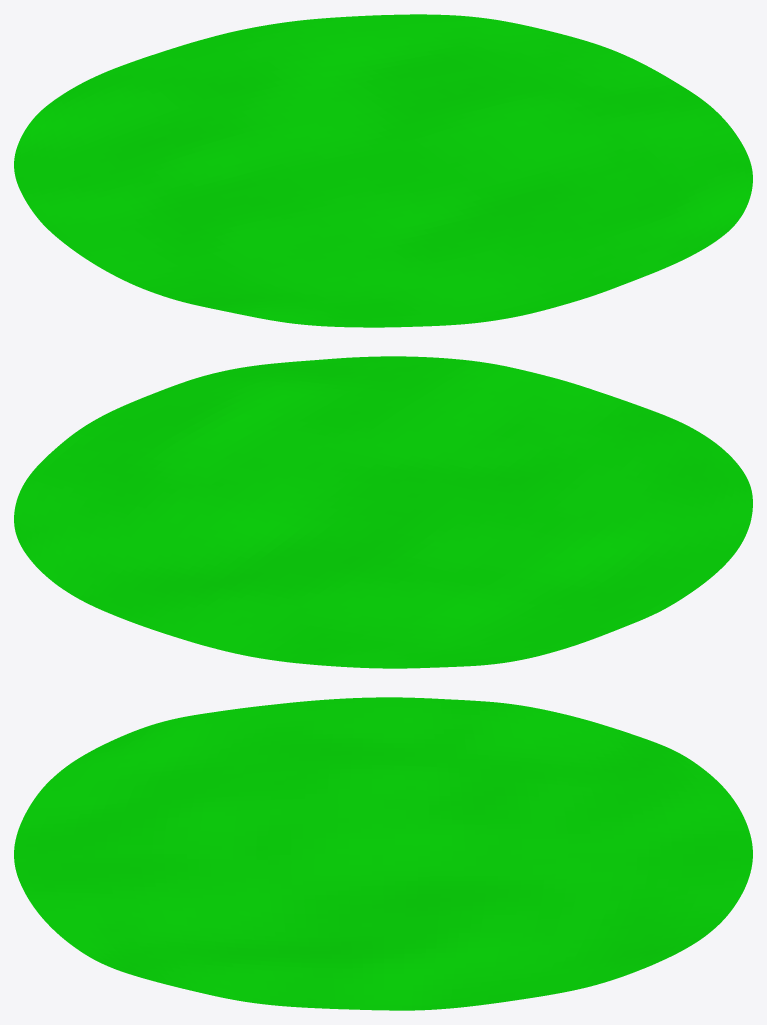
File: test_terrain.glb
3 renders of one model, top to bottom at view 1: azimuth 30°, elevation 25°; view 2: azimuth 150°, elevation 25°; view 3: azimuth 270°, elevation 25°, orthographic. The views are drawn at different scales.
Visible parts, largest first — view 1: test_terrain; view 2: test_terrain; view 3: test_terrain.
Part boxes in pixels (x1,y1,x2,y2): test_terrain: (14,14,752,327); test_terrain: (14,356,752,668); test_terrain: (14,697,752,1010).
Size of the model in its own units: 117 by 1.06 by 117.
